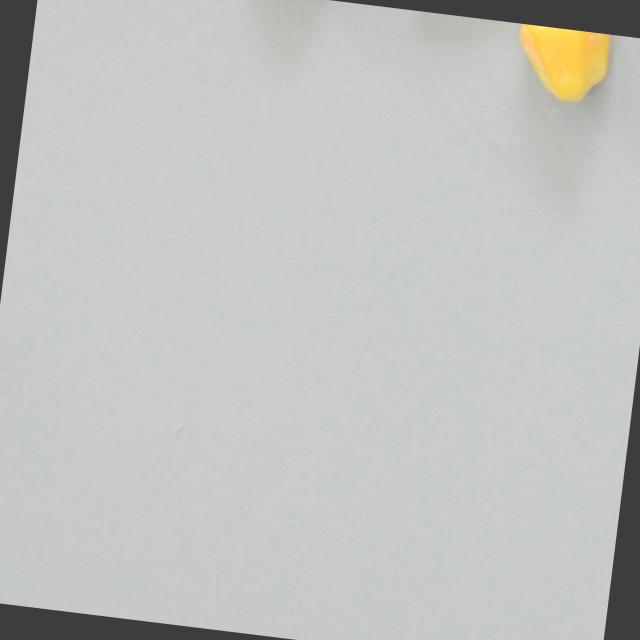pelicula: (510, 22, 612, 108)
